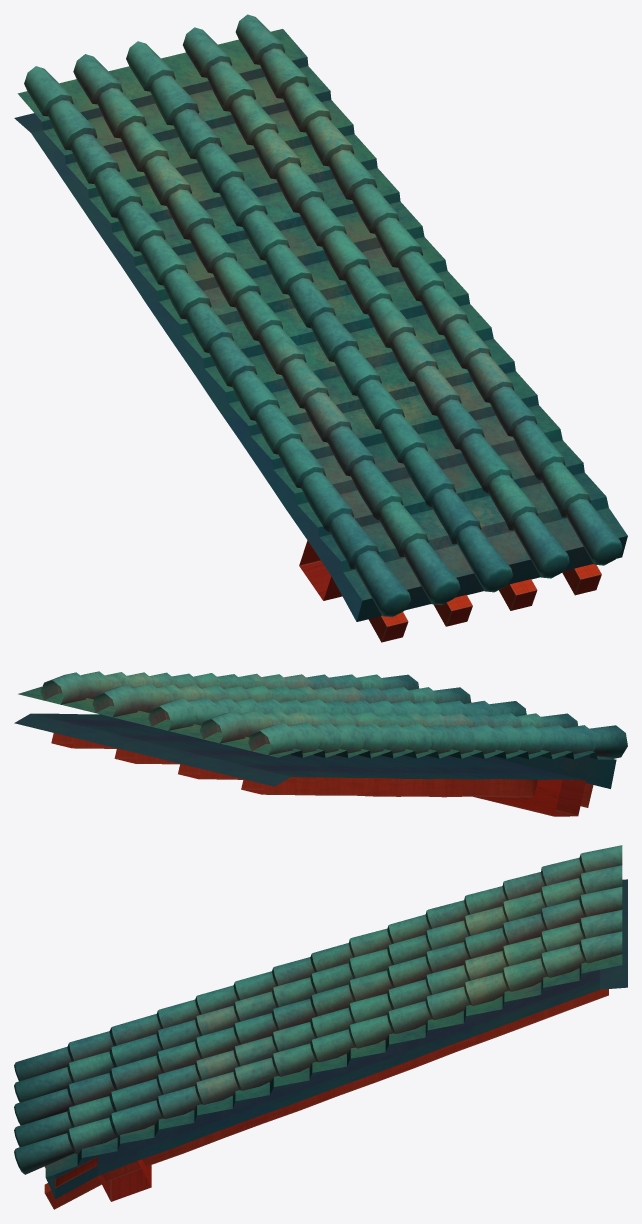
File: SM_BigWall_roof_Straight.glb
3 renders of one model, top to bottom at view 1: azimuth 30°, elevation 25°; view 2: azimuth 150°, elevation 25°; view 3: azimuth 270°, elevation 25°, orthographic. The views are drawn at different scales.
Visible parts, largest first — view 1: SM_BigWall_roof_Straight_LOD0; view 2: SM_BigWall_roof_Straight_LOD0; view 3: SM_BigWall_roof_Straight_LOD0.
Boxes of the visible parts, x1,y1,x2,y2 form: SM_BigWall_roof_Straight_LOD0: [14, 14, 627, 642]; SM_BigWall_roof_Straight_LOD0: [14, 671, 627, 816]; SM_BigWall_roof_Straight_LOD0: [14, 845, 627, 1209].
Bounding box in the file's own units: 2 × 2.37 × 4.79.
1 material, 1 textured.
